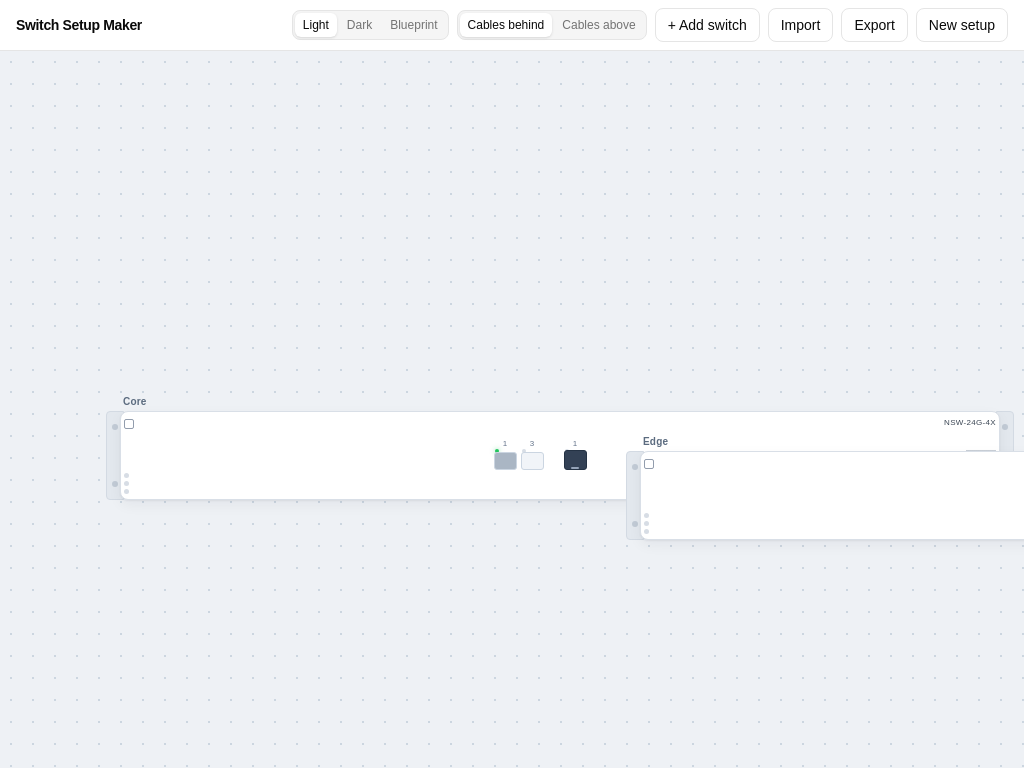
Test: add switch › clicking a switch body selects it and opens its editor on that switch
The image size is (1024, 768).
Step 1. Click the element "Core" → (560, 456), box [120,411,1000,500]
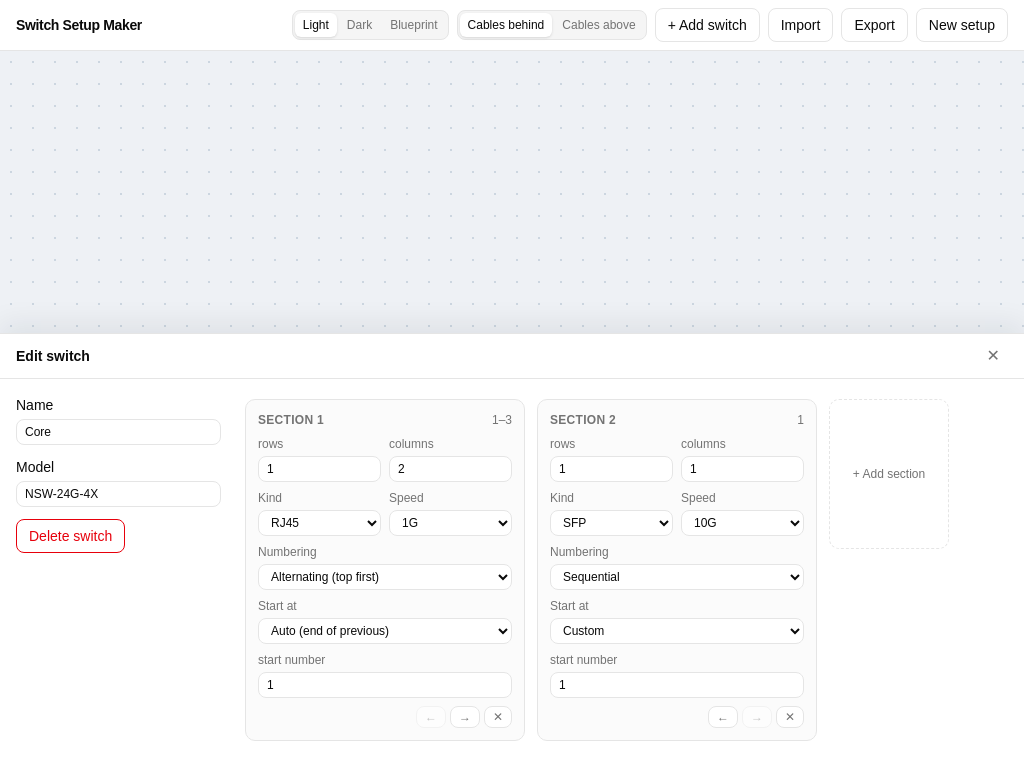
Expected: the heading "Edit switch" is shown, [16,346,90,366]
Expected: the field labelled "Name" holds "Core", [16,419,221,445]
Expected: the field labelled "Model" holds "NSW-24G-4X", [16,481,221,507]
